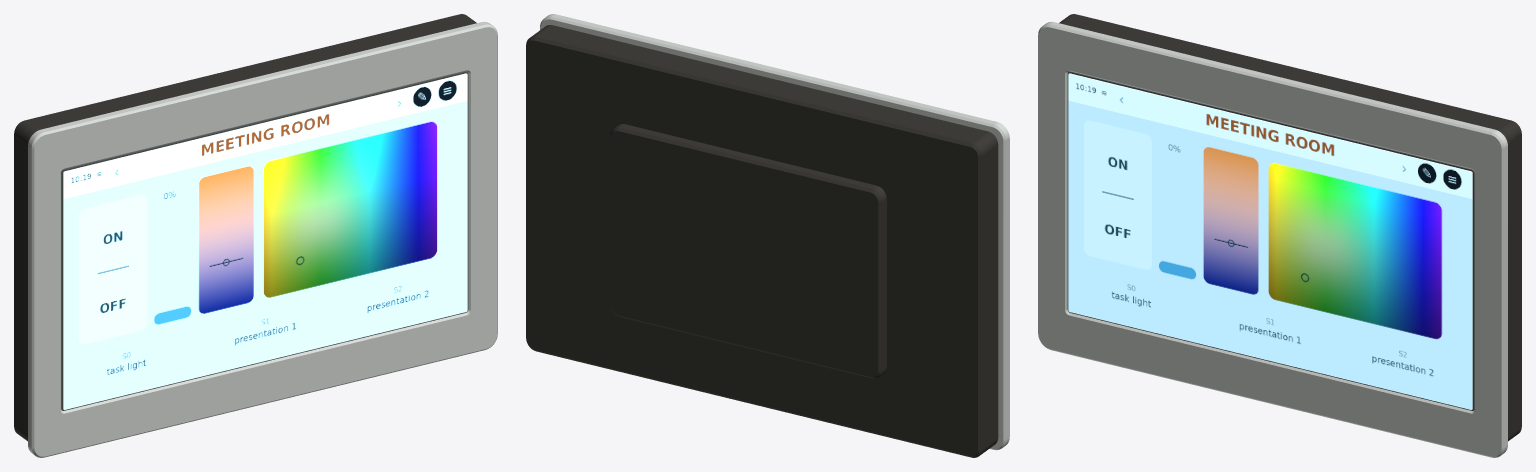
File: 09_DALI_Touchscreen_Panel.glb
3 renders of one model, left to right at view 1: azimuth 30°, elevation 25°; view 2: azimuth 150°, elevation 25°; view 3: azimuth 330°, elevation 25°, orthographic.
Parts seen in each view (by area): view 1: Touchscreen_Display, Front_White_Bezel, Rear_Housing, Screen_Gasket; view 2: Rear_Housing, Wall_Mount, Front_White_Bezel; view 3: Touchscreen_Display, Front_White_Bezel, Rear_Housing, Screen_Gasket.
Part boxes in pixels (bbox=[...]): Touchscreen_Display: bbox=[63, 73, 467, 409]; Front_White_Bezel: bbox=[28, 21, 497, 457]; Rear_Housing: bbox=[14, 14, 476, 441]; Screen_Gasket: bbox=[61, 71, 468, 410]; Rear_Housing: bbox=[526, 25, 998, 457]; Wall_Mount: bbox=[610, 124, 886, 378]; Front_White_Bezel: bbox=[540, 14, 1009, 450]; Touchscreen_Display: bbox=[1068, 73, 1472, 409]; Front_White_Bezel: bbox=[1038, 21, 1507, 457]; Rear_Housing: bbox=[1059, 14, 1521, 441]; Screen_Gasket: bbox=[1067, 71, 1474, 410].
Size of the model in its own units: 0.18 by 0.12 by 0.022.
4 materials, 1 textured.
